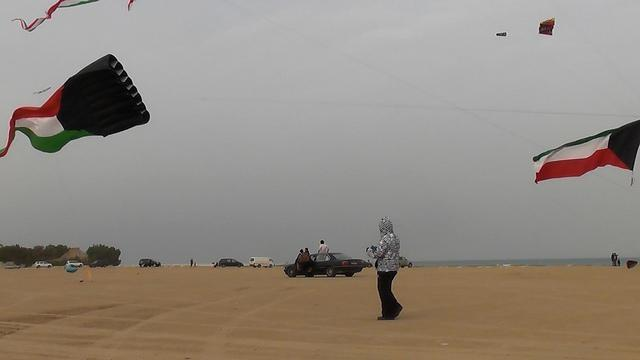car: (284, 253, 366, 278), (217, 258, 244, 267), (400, 257, 412, 270), (64, 260, 83, 268), (89, 260, 103, 268), (66, 266, 78, 274), (4, 263, 20, 269), (365, 261, 374, 268)
truck: (248, 258, 276, 268), (64, 259, 84, 273), (138, 258, 164, 267), (35, 262, 52, 270)
